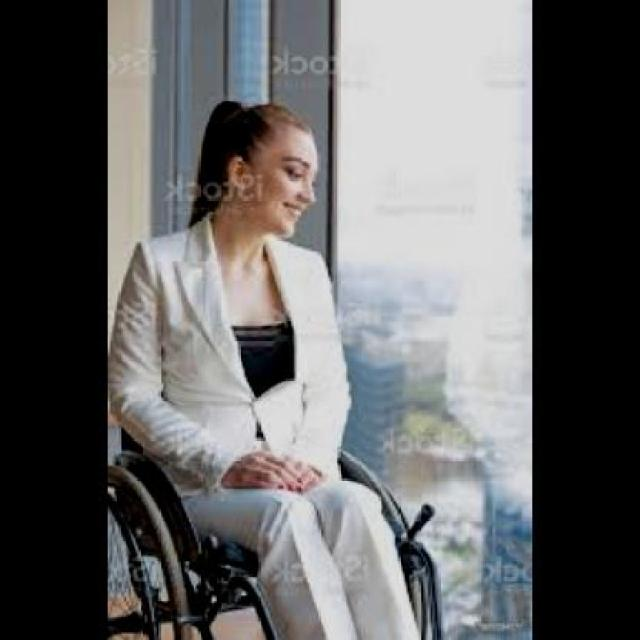wheelchairs: (102, 378, 464, 640)
